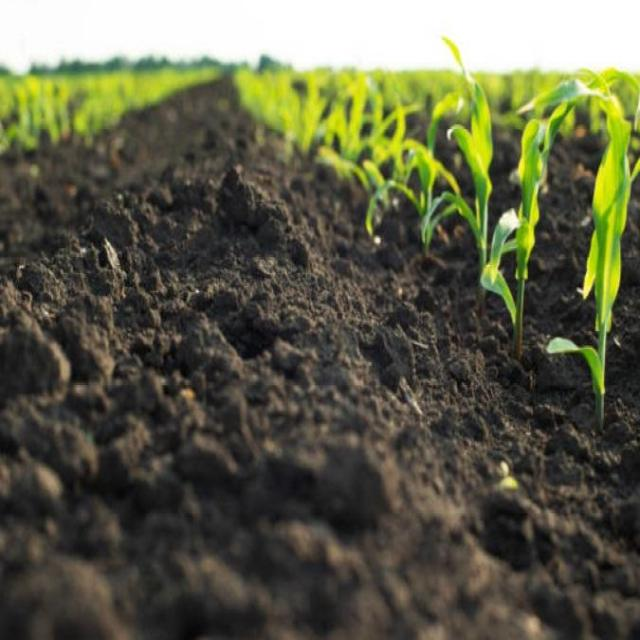row: (1, 81, 639, 640)
